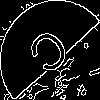C: (25, 25, 79, 85)
